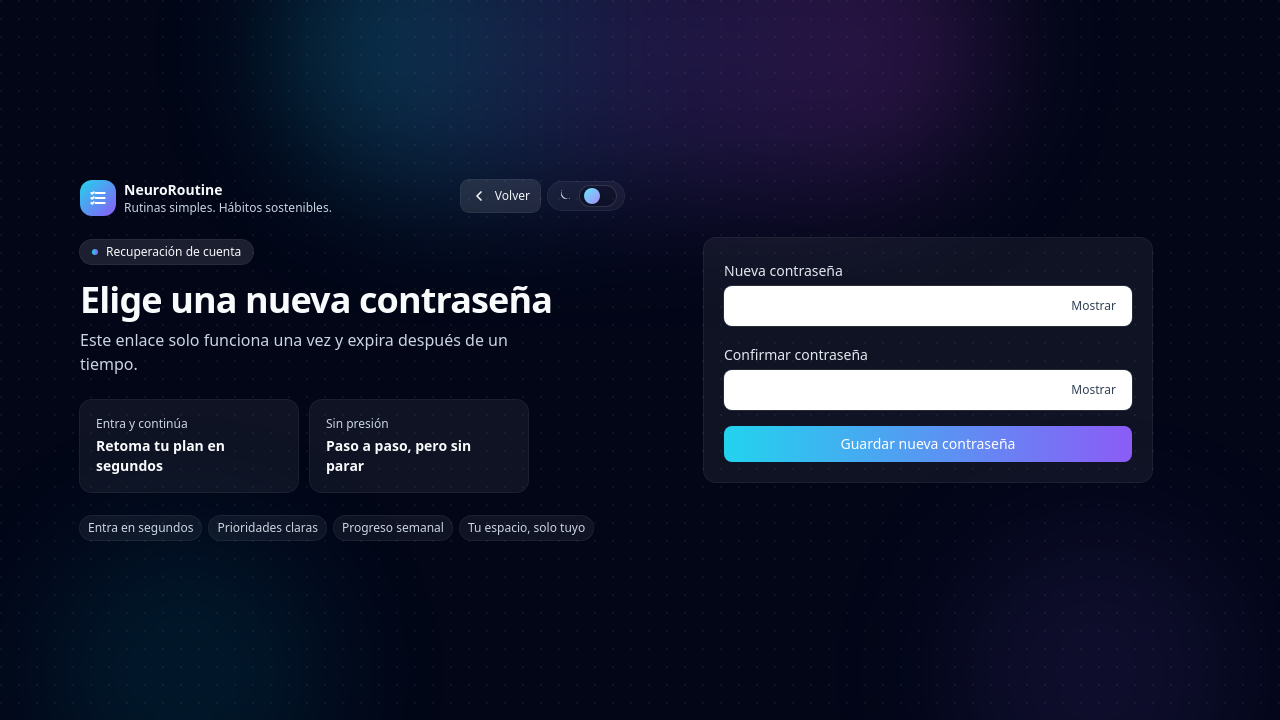
ResetPasswordPage › shows a validation error when the password is too short
The width and height of the screenshot is (1280, 720).
In the password field labelled "Nueva contraseña": (928,306) [724,286,1132,326], type "short"
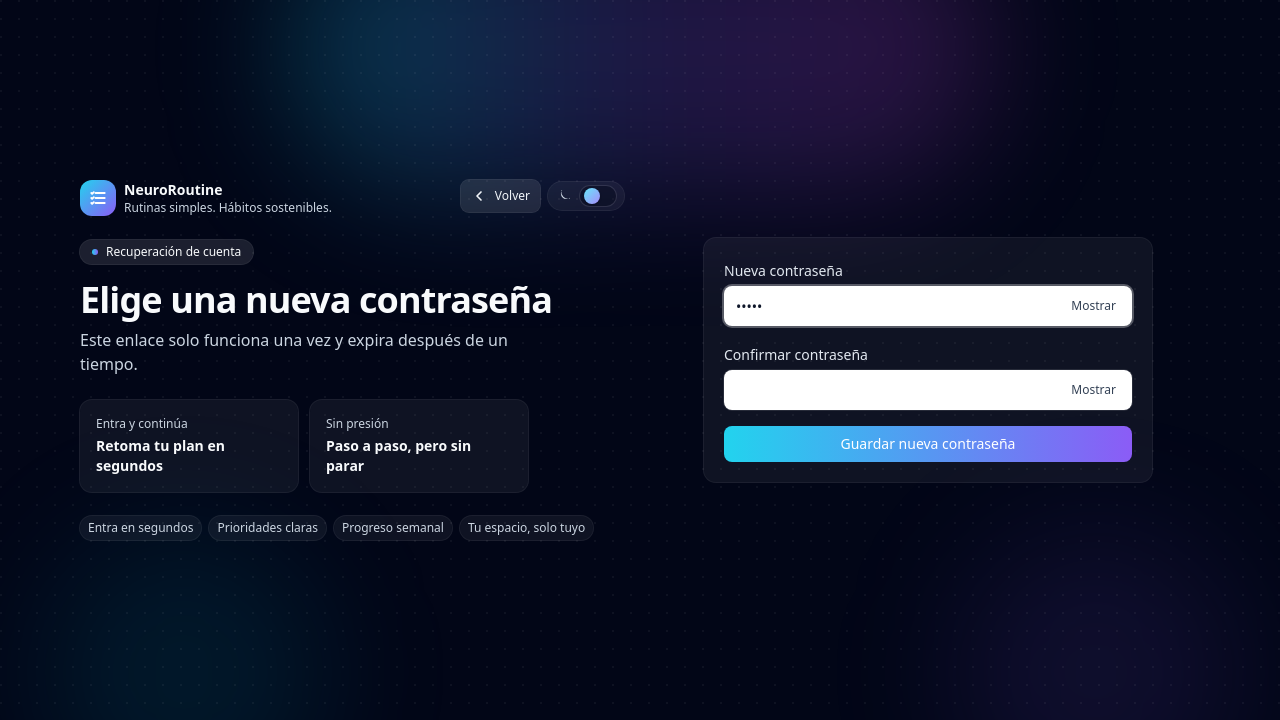
In the password field labelled "Confirmar contraseña": (928,390) [724,370,1132,410], type "short"
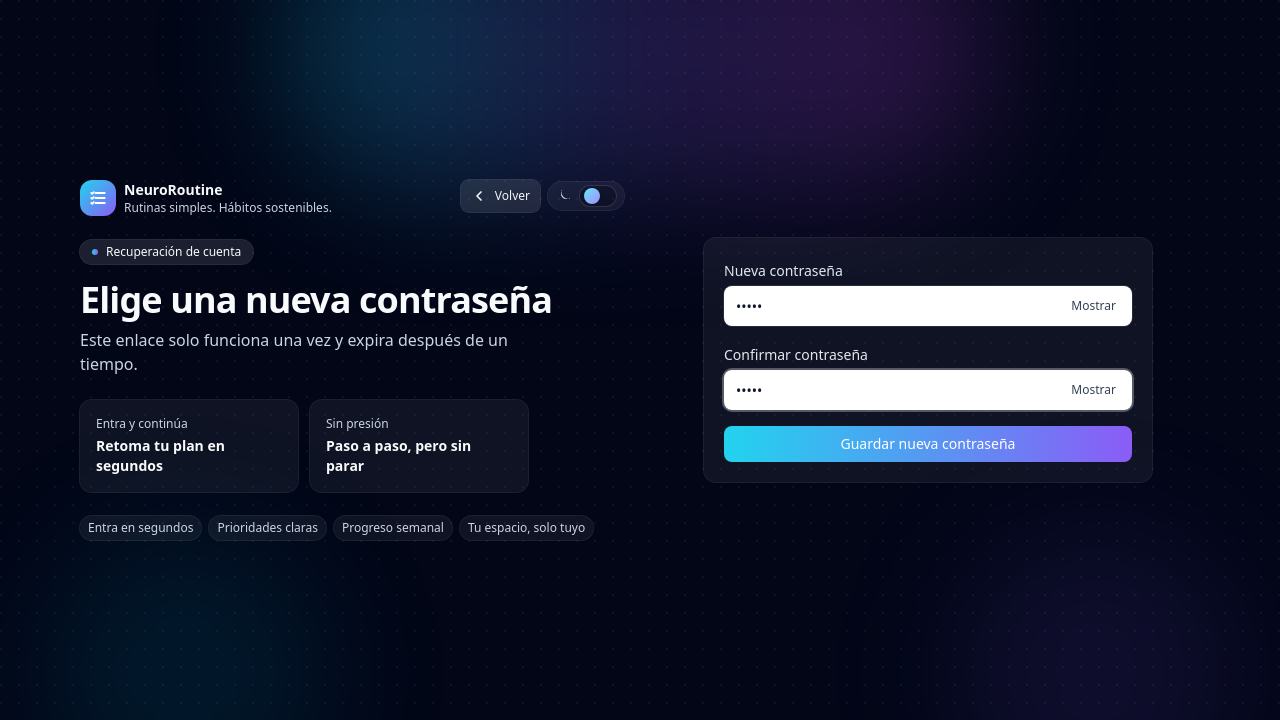
Click the button "Guardar nueva contraseña": (928,444) [724,426,1132,462]
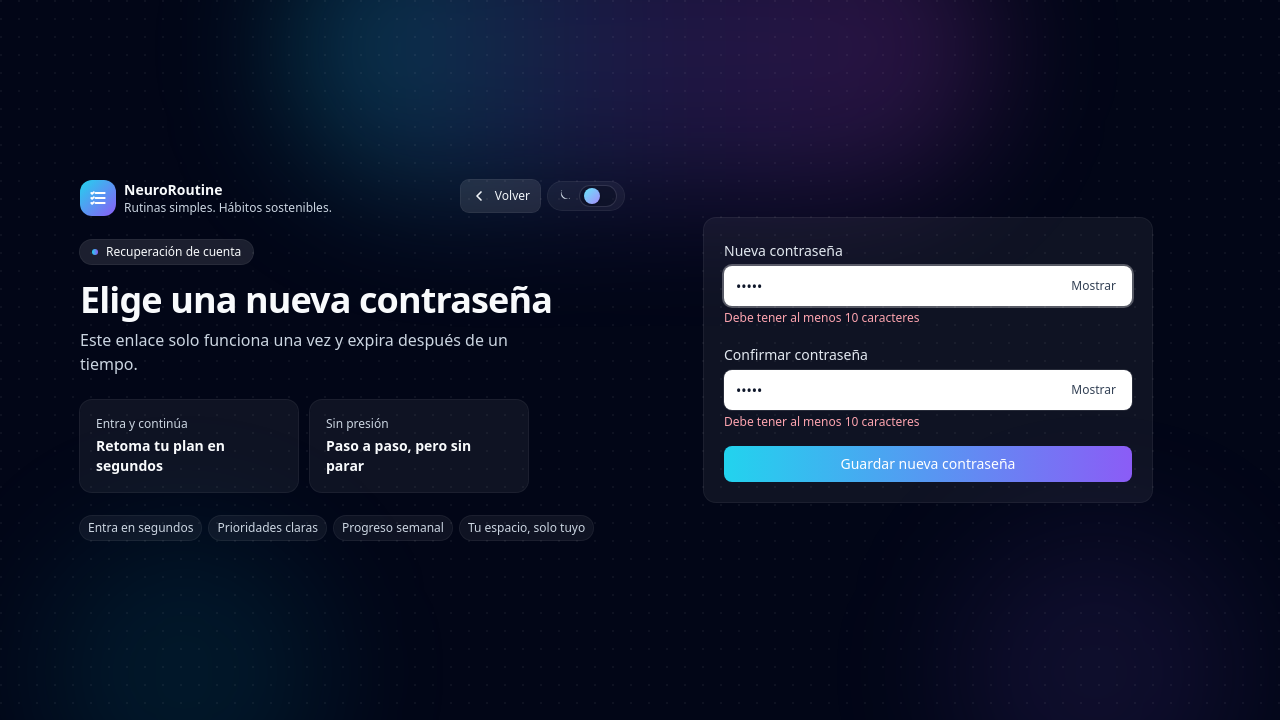
Expected: the text "Debe tener al menos 10 caracteres" is shown 2 times, [724,309,920,326]; [724,413,920,430]
